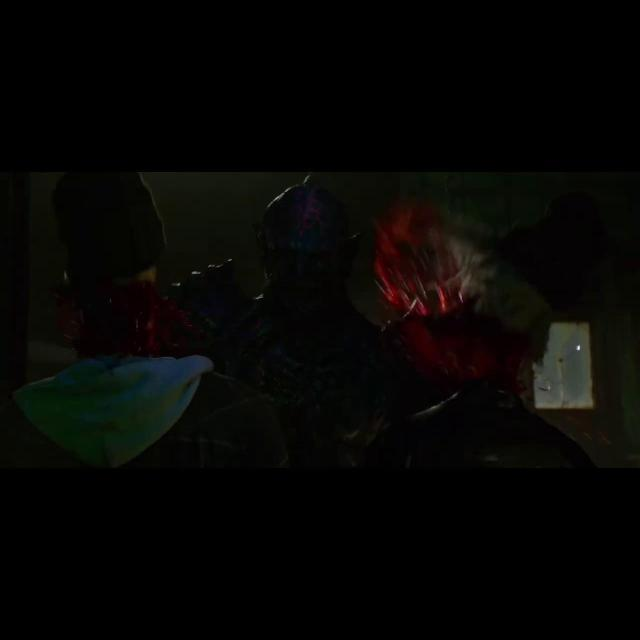blood: (370, 198, 522, 387), (52, 280, 205, 360)
